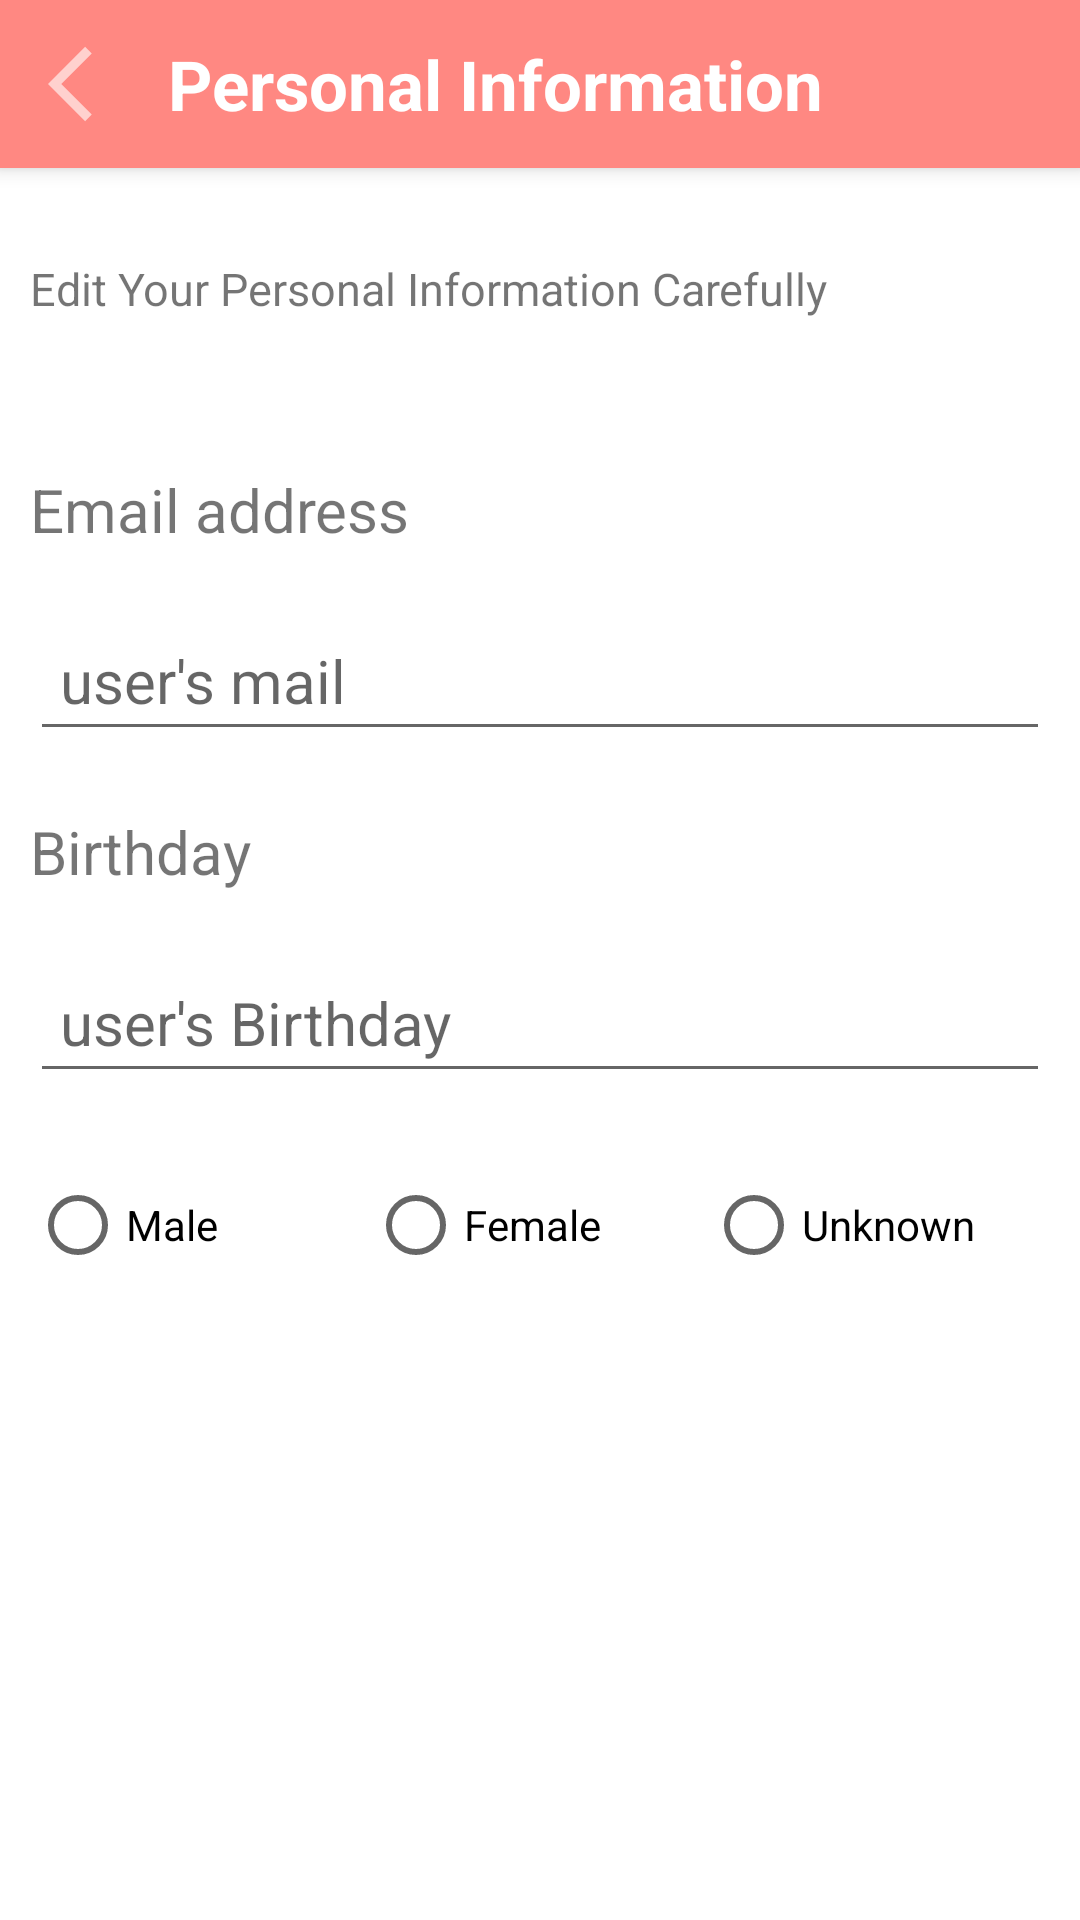

Locate icon controls on the screen. Image size 1080×1920, boxes as {"left": x1, "top": y1, "right": x2, "bottom": y2}.
left back: {"left": 48, "top": 47, "right": 92, "bottom": 121}
